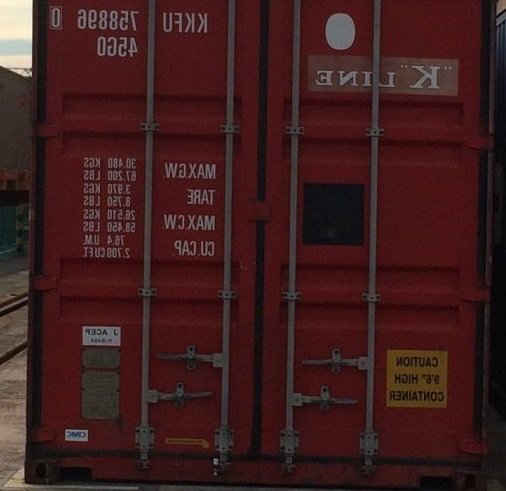container_door: (21, 1, 499, 489)
